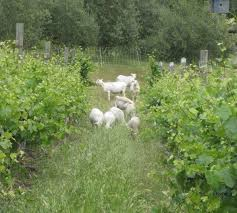sheep: (95, 79, 125, 100), (116, 95, 137, 117), (102, 108, 117, 134), (112, 68, 136, 84), (111, 104, 127, 126), (87, 105, 103, 126), (125, 115, 139, 137), (129, 79, 141, 95)
